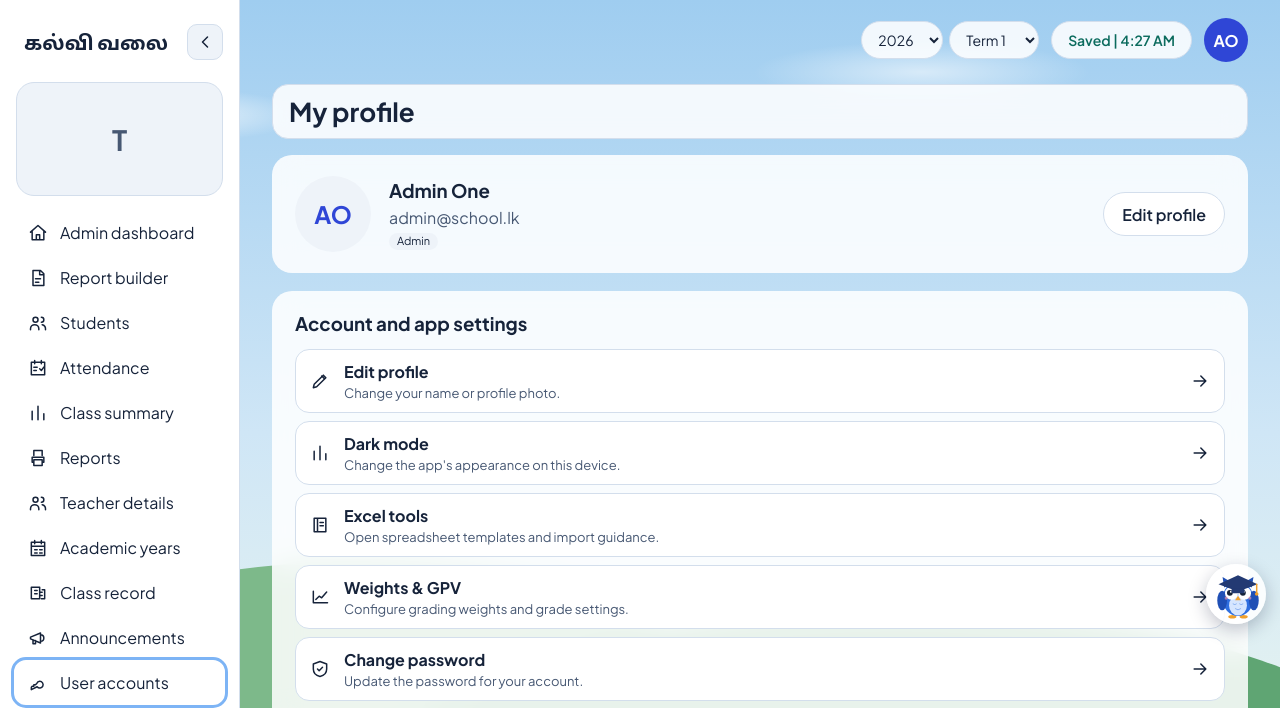
Test: admin, teacher and student dashboards › uses a four-item mobile quick bar and opens the full authorized drawer
Earlier steps of the test are not shown.
Check: the heading "My profile" is shown, box [289,95,415,128]
Check: the button "Dark mode Change the app's appearance on this device." is shown, box [295,421,1225,485]
Click the button "Edit profile": (1164, 214) [1103,192,1225,236]
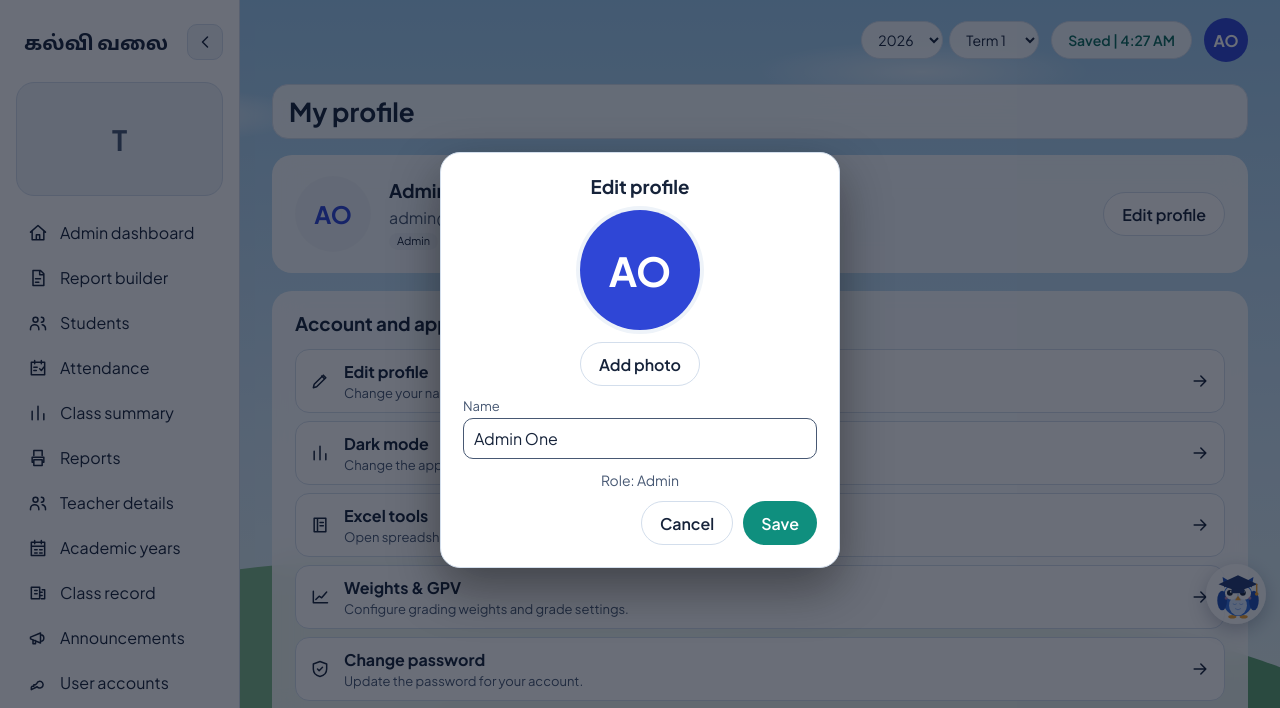
Check: the heading "Edit profile" is shown, box [591,175,689,198]
Check: the element with class "fieldwrap" is shown, box [463,398,817,459]
Check: the text "Role: Admin" is shown, box [601,471,679,489]
